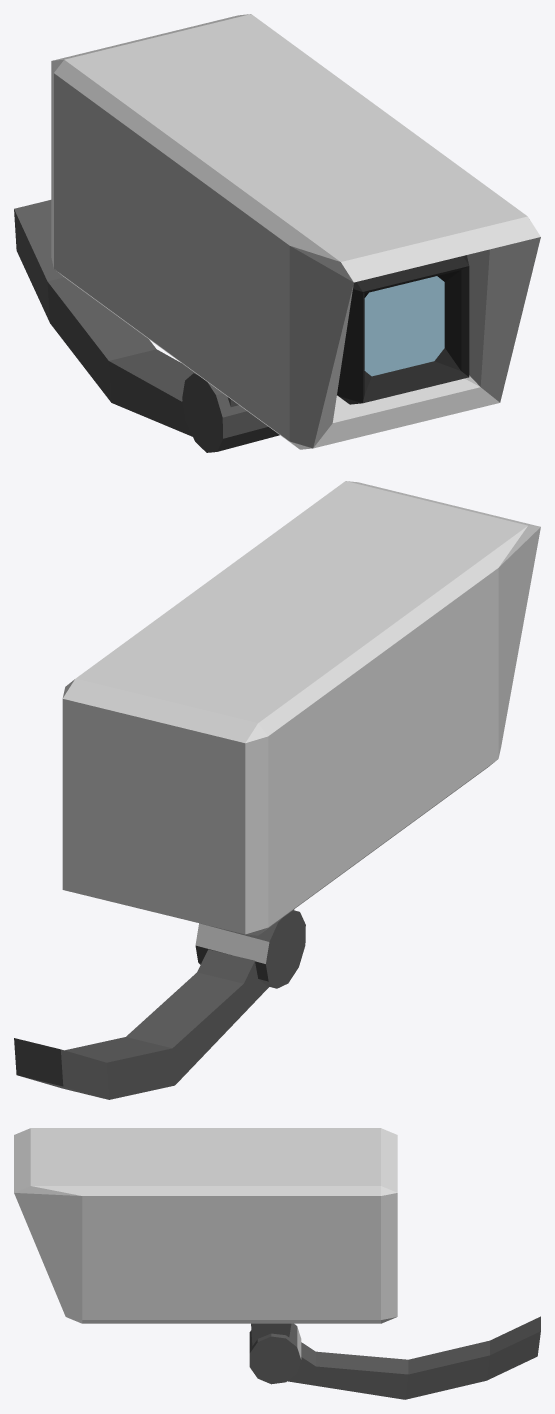
The model's file is Camera.fbx.
3 views of the same model, one above another, from view 1: azimuth 30°, elevation 25°; view 2: azimuth 150°, elevation 25°; view 3: azimuth 270°, elevation 25° (orthographic). The views are drawn at different scales.
Parts seen in each view (by area): view 1: Cube; view 2: Cube; view 3: Cube.
Boxes of the visible parts, box(x1,y1,x2,y2) form: Cube: box(14, 14, 540, 452); Cube: box(14, 481, 540, 1099); Cube: box(14, 1128, 540, 1399).
Bounding box in the file's own units: 38.57 × 66.18 × 134.
